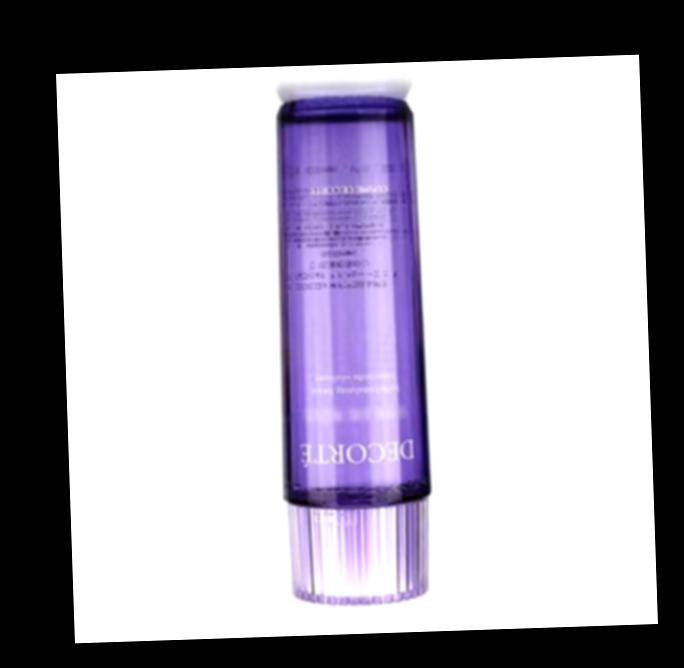cosmetic: (266, 93, 442, 602)
